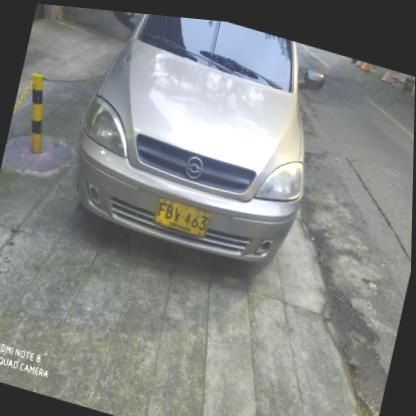placa: (150, 189, 215, 238)
